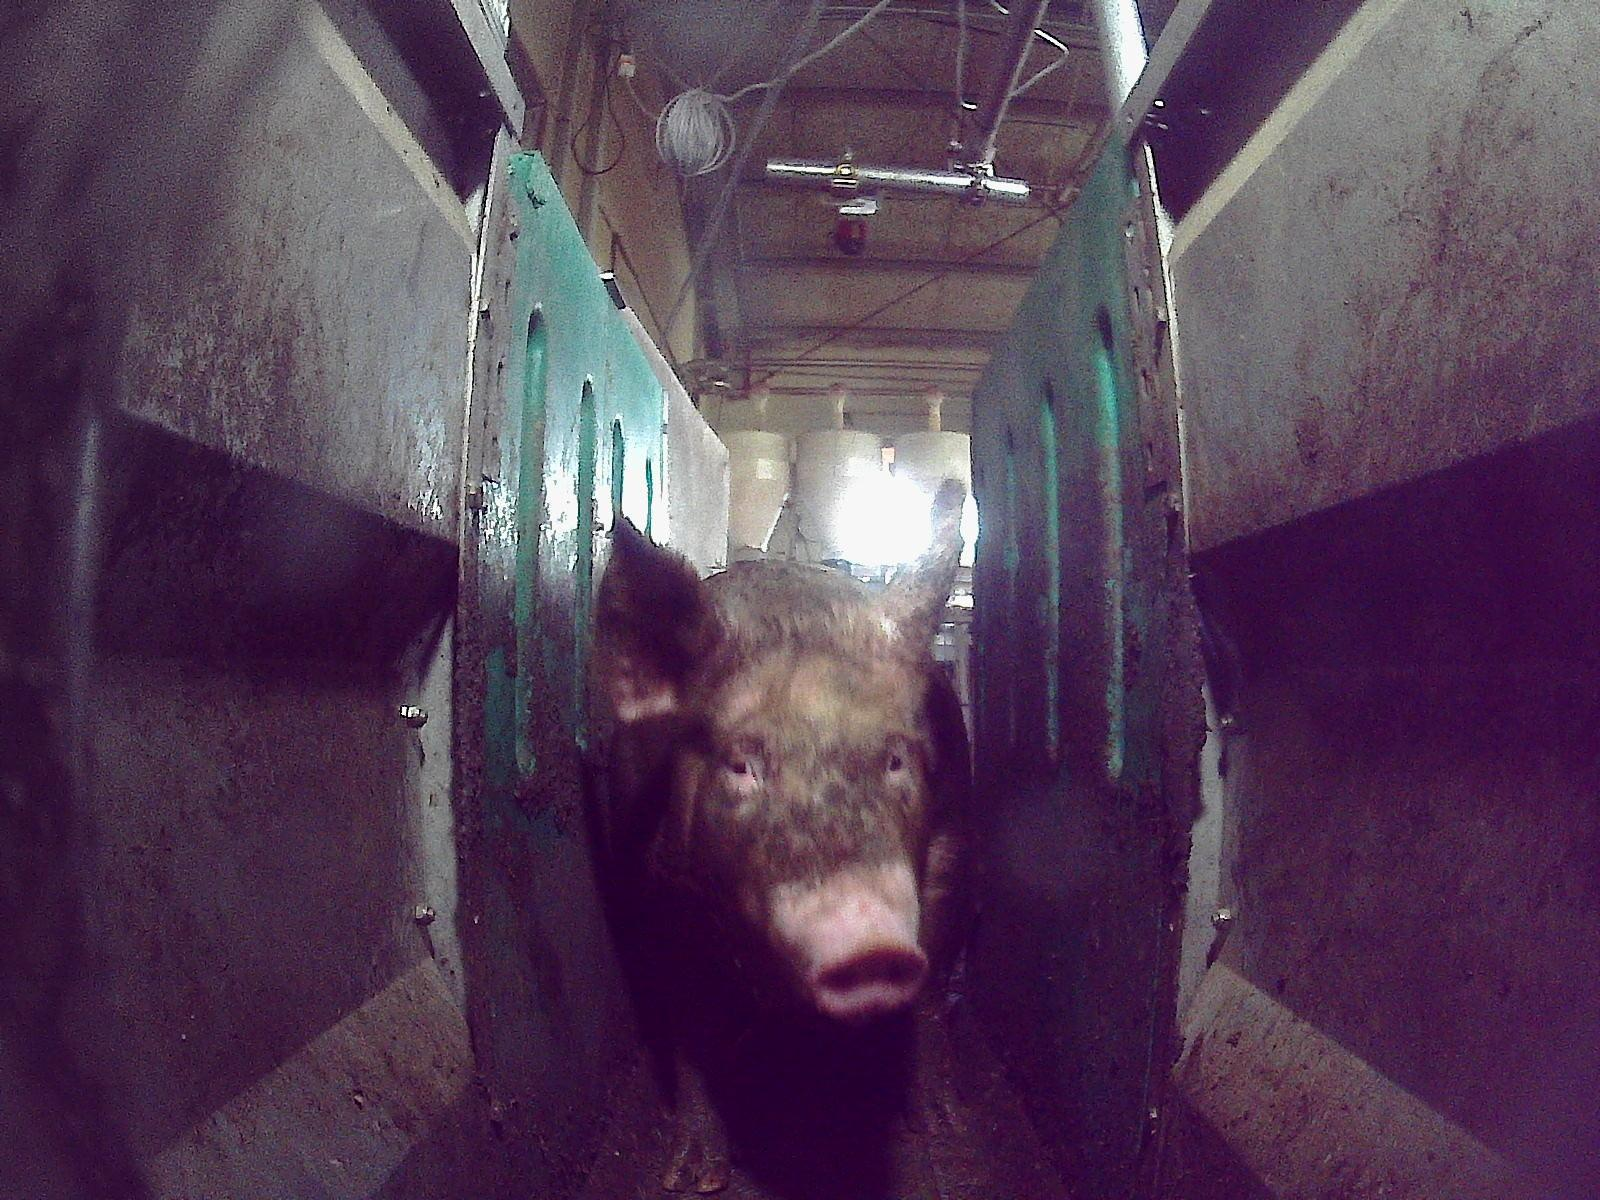Face: (654, 620, 943, 1017)
